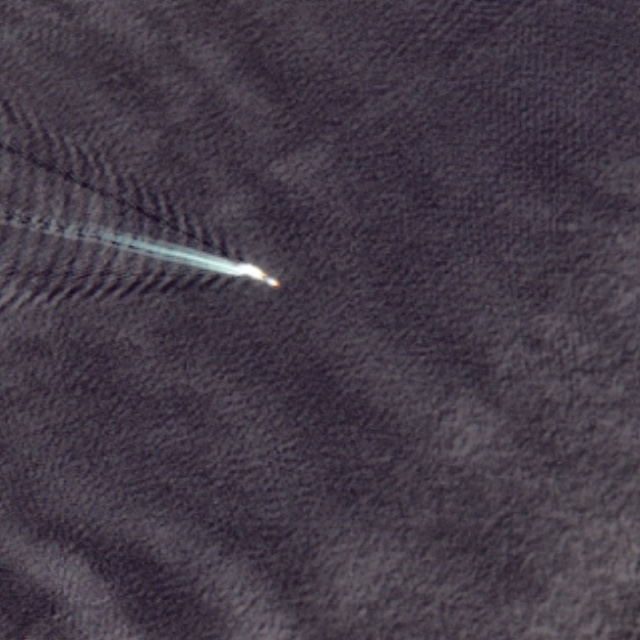wake: (7, 137, 311, 361)
